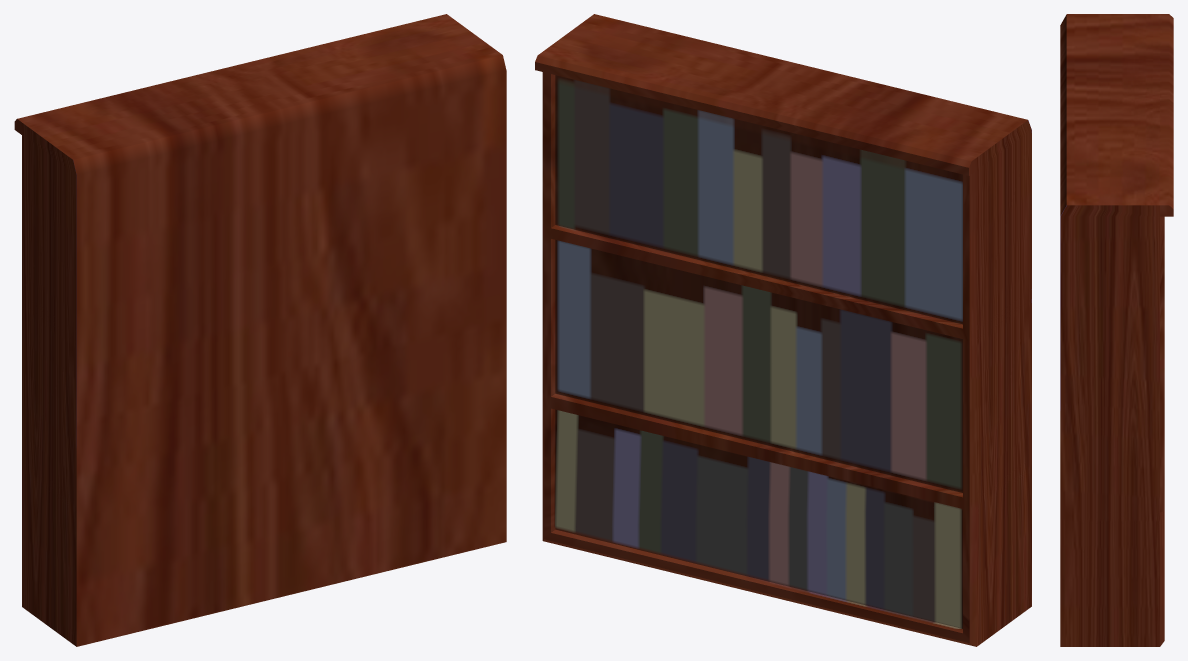
The model's file is shelf_Small.fbx.
3 renders of one model, left to right at view 1: azimuth 30°, elevation 25°; view 2: azimuth 150°, elevation 25°; view 3: azimuth 270°, elevation 25°, orthographic. The views are drawn at different scales.
Parts seen in each view (by area): view 1: shelf_Mapped48; view 2: shelf_Mapped48; view 3: shelf_Mapped48.
Boxes of the visible parts, x1,y1,x2,y2 form: shelf_Mapped48: [14, 14, 506, 646]; shelf_Mapped48: [535, 14, 1031, 646]; shelf_Mapped48: [1060, 14, 1173, 646].
Bounding box in the file's own units: 13 × 14 × 3.26.
